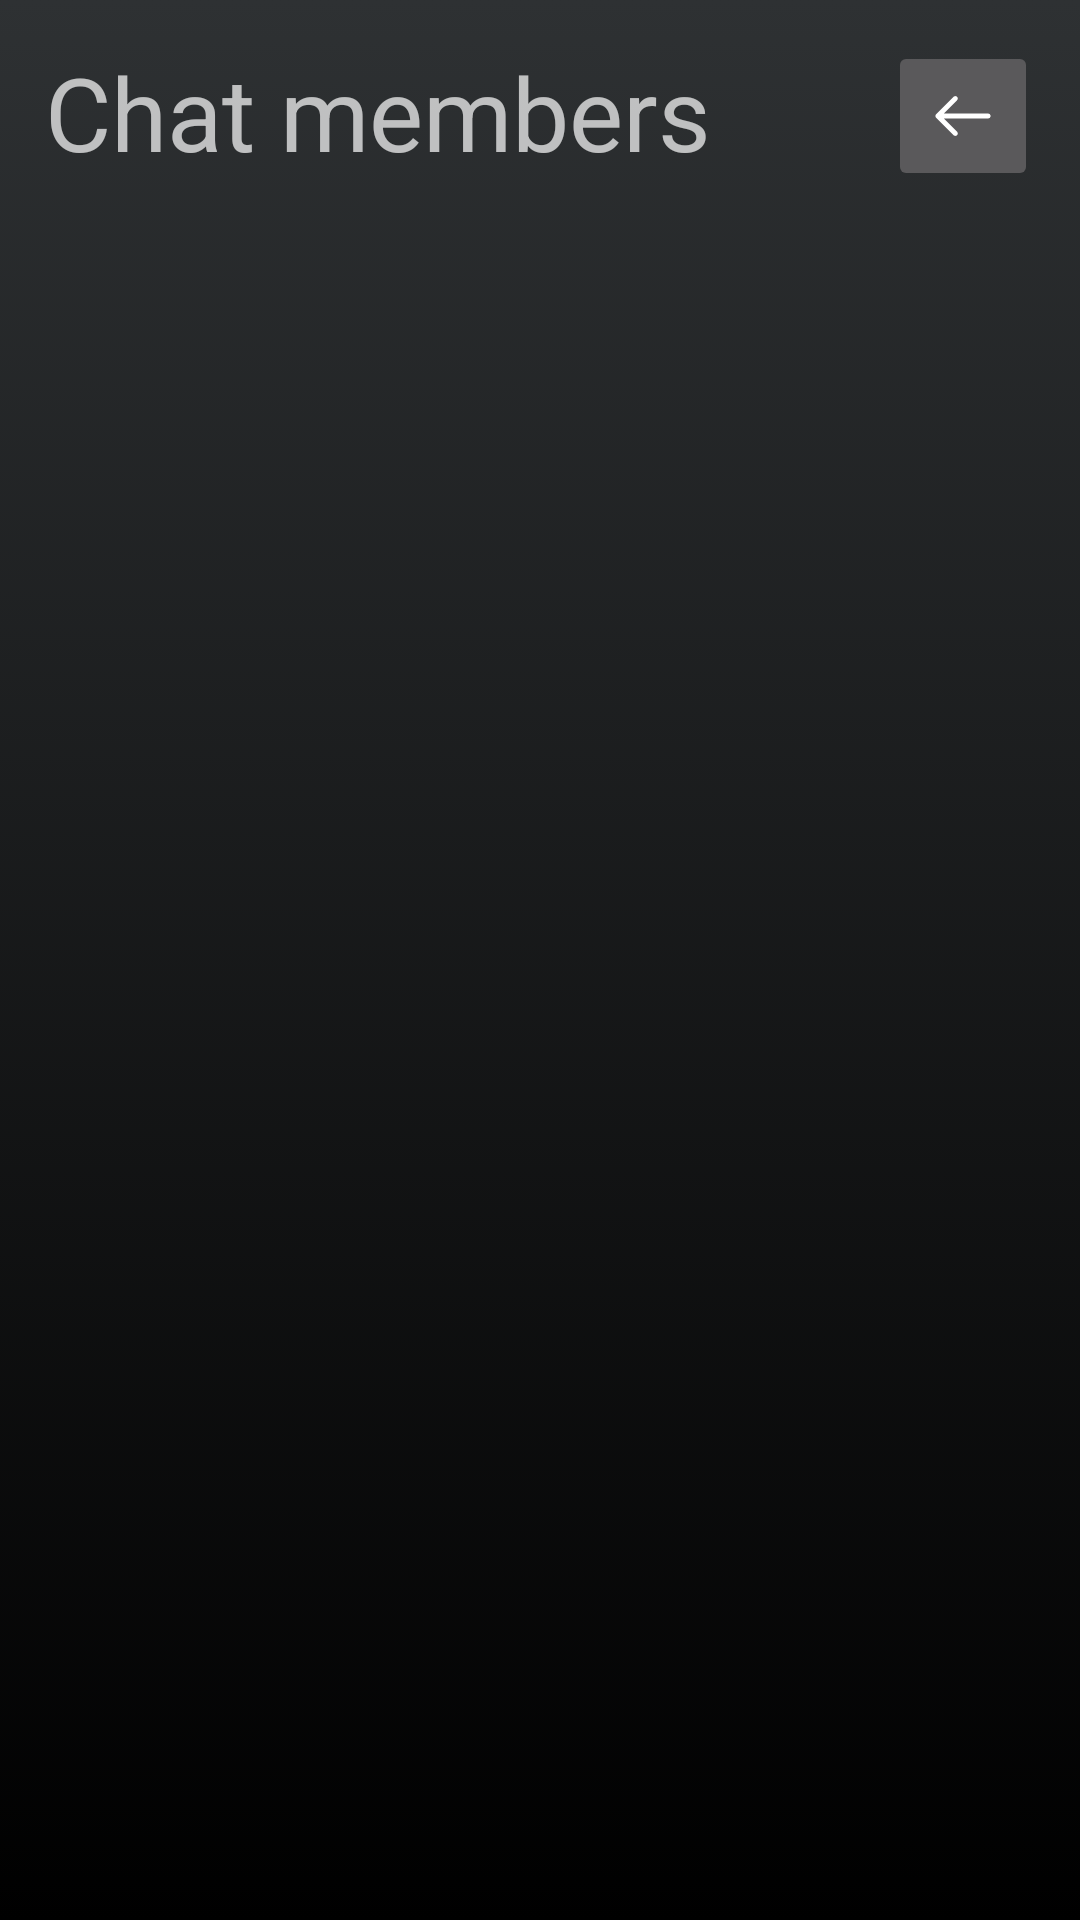

Icons on this 1080x1920 Android screen, each with its box as bbox=(x1, y1, x2, y2):
back: bbox=(900, 59, 1026, 173)
